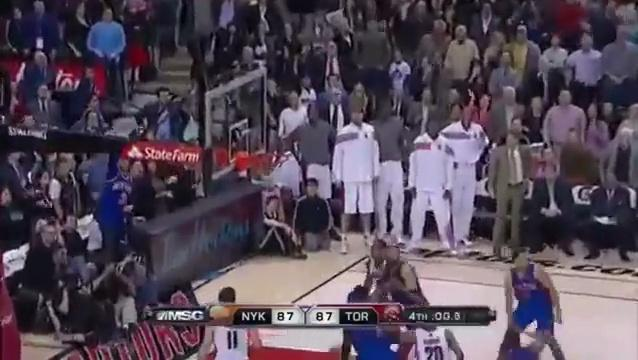Backboard: (205, 68, 266, 183)
Made Basket: (250, 151, 290, 182)
Person: (500, 246, 569, 356), (198, 283, 264, 360), (382, 244, 426, 305), (370, 236, 409, 297)
